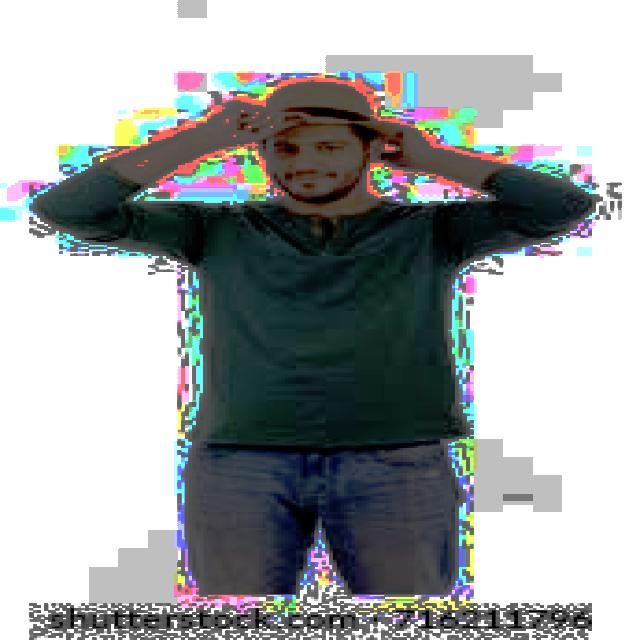TOPI: (240, 75, 407, 144)
